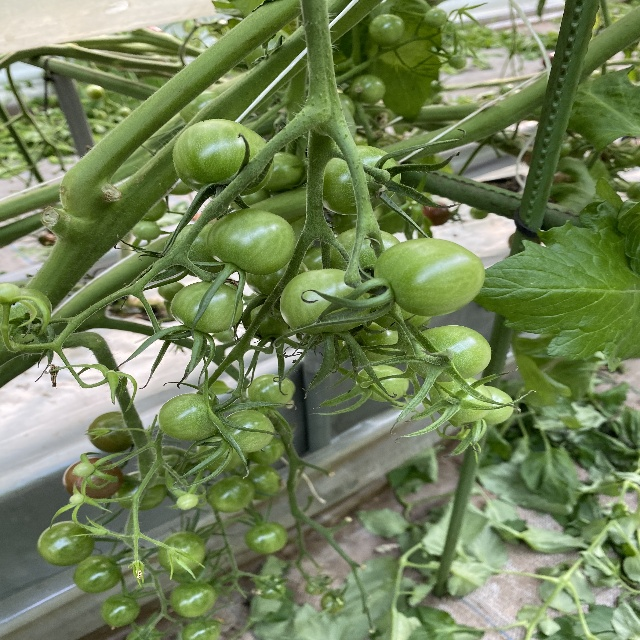l_fully_ripened: (62, 457, 123, 499)
l_green: (373, 237, 485, 316), (171, 119, 275, 198), (205, 208, 296, 278), (281, 269, 373, 334), (322, 144, 401, 216), (407, 325, 493, 381), (169, 281, 245, 333), (330, 227, 400, 280), (163, 223, 228, 278), (156, 393, 223, 441), (349, 321, 421, 363), (430, 378, 493, 424), (37, 519, 97, 566), (245, 257, 309, 299), (220, 409, 274, 454), (157, 531, 207, 574), (244, 300, 298, 339), (355, 364, 410, 402), (116, 471, 167, 511), (87, 411, 134, 454), (72, 553, 122, 593), (370, 303, 434, 332), (206, 476, 255, 513), (169, 581, 217, 618), (263, 150, 304, 191), (246, 374, 293, 409), (479, 384, 514, 426), (244, 522, 288, 554), (367, 14, 407, 47), (101, 594, 140, 627), (348, 74, 386, 103), (131, 221, 161, 241), (175, 494, 198, 509)
